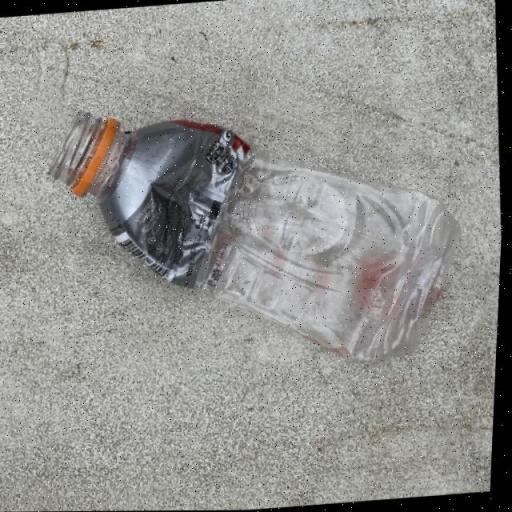plastic: (37, 81, 477, 388)
